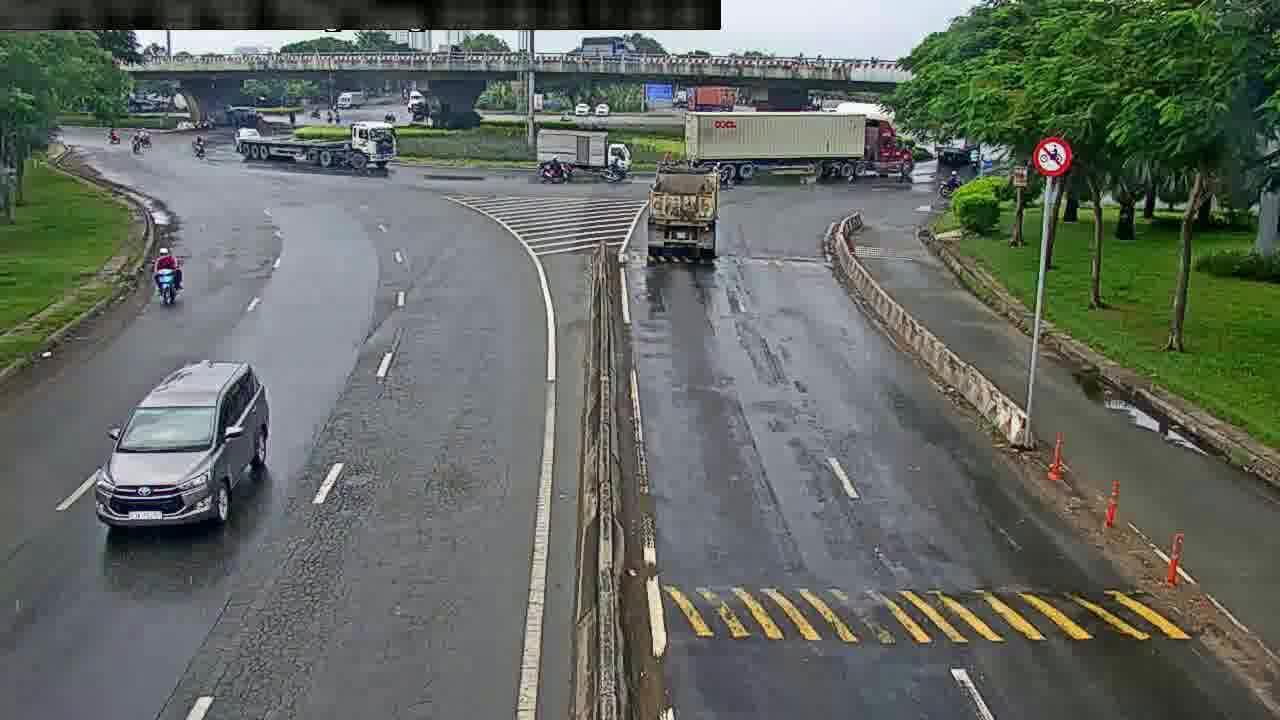car: (83, 351, 269, 529)
container: (688, 104, 913, 180), (648, 168, 726, 261), (534, 126, 632, 172)
motorbike: (151, 245, 186, 308), (540, 156, 573, 184)
